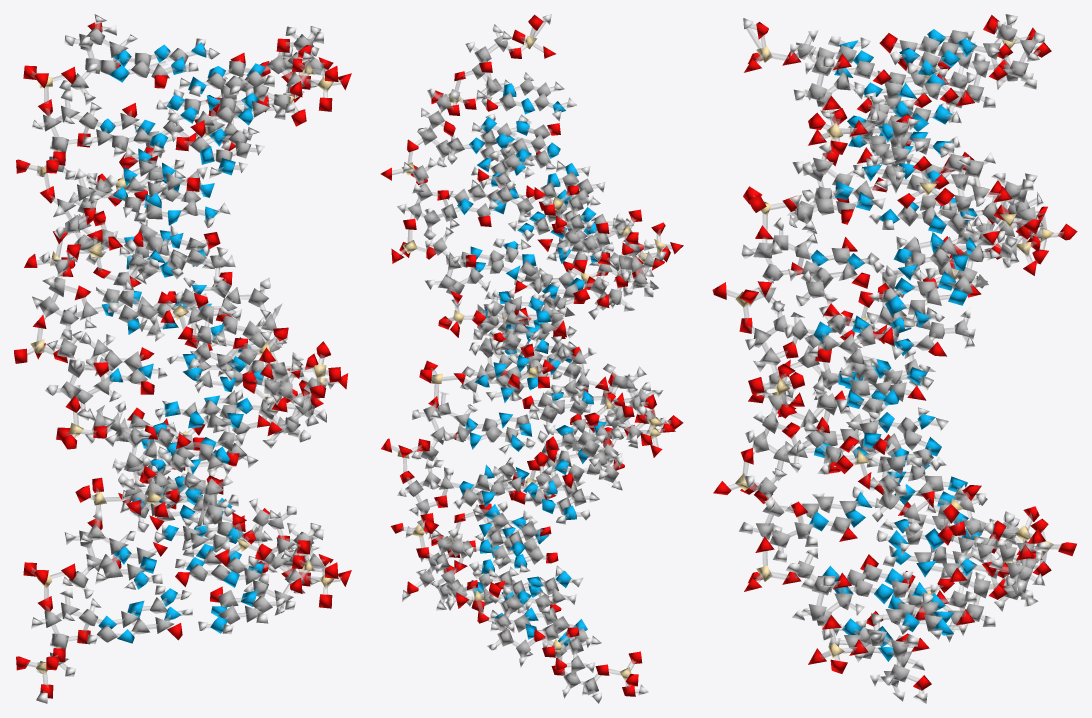
File: adnlowLv2.fbx
3 renders of one model, left to right at view 1: azimuth 30°, elevation 25°; view 2: azimuth 150°, elevation 25°; view 3: azimuth 270°, elevation 25°, orthographic. The views are drawn at different scales.
Parts seen in each view (by area): view 1: adn; view 2: adn; view 3: adn.
Part boxes in pixels (<box>): adn: <box>14,14,351,703</box>; adn: <box>380,14,683,703</box>; adn: <box>712,14,1077,703</box>.
Size of the model in its own units: 2052 by 4515 by 2154.
